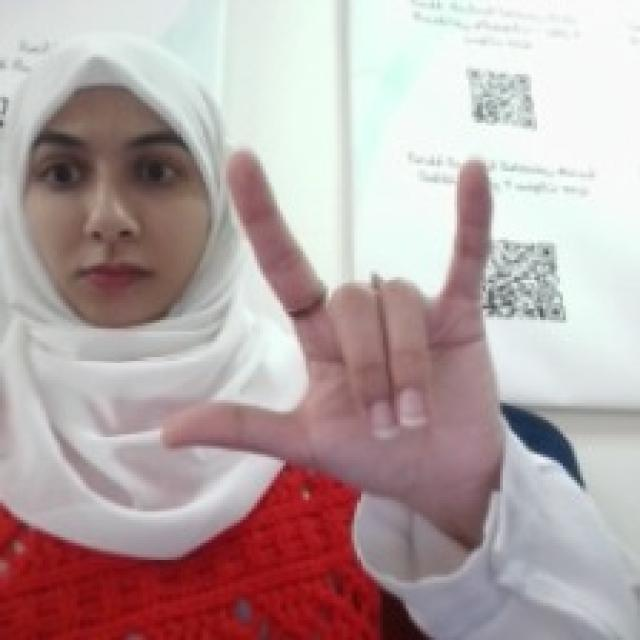love: (223, 140, 508, 500)
